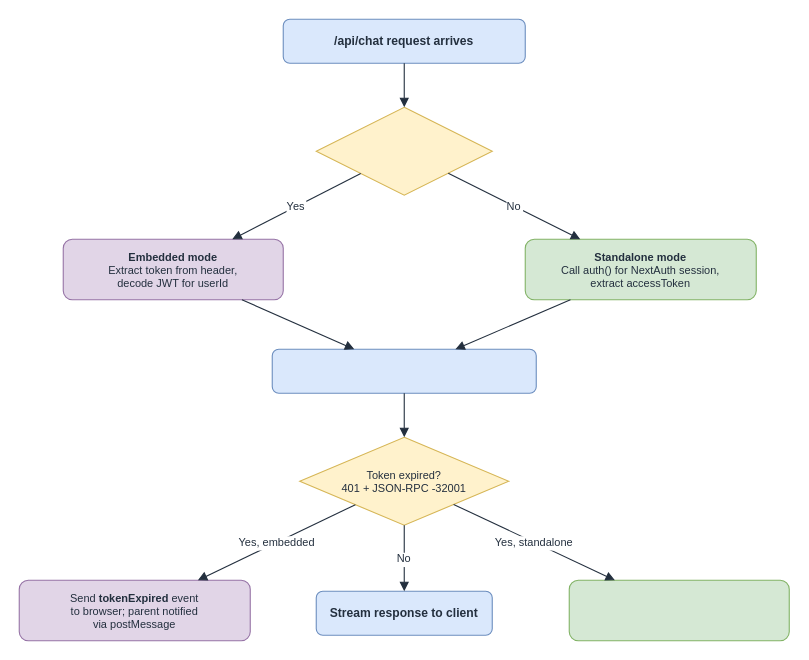
This 809x660 diagram has some shape labels left out. Each missing label, with the box of its shape:
Authorization header present?: (315, 106, 492, 195)
Call auth() again to trigger JWT callback refresh, retry Agent Core request: (568, 579, 789, 641)
Invoke Agent Core with resolved token: (271, 348, 536, 393)
